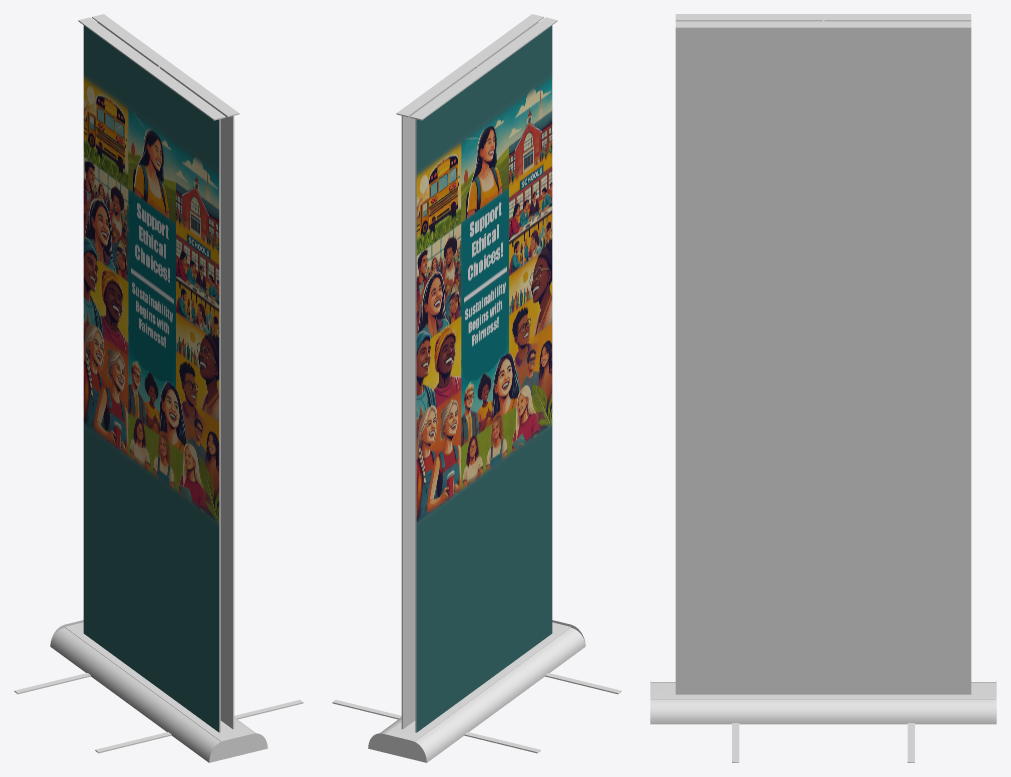
File: Banner2.fbx
The picture shows the model from 3 angles, left to right: view 1: azimuth 30°, elevation 25°; view 2: azimuth 150°, elevation 25°; view 3: azimuth 270°, elevation 25°; orthographic projection. The views are drawn at different scales.
Parts seen in each view (by area): view 1: Banner; view 2: Banner; view 3: Banner.
Boxes of the visible parts, left/top/right/bottom form: Banner: left=14, top=14, right=303, bottom=762; Banner: left=332, top=14, right=621, bottom=762; Banner: left=650, top=14, right=996, bottom=762.
Size of the model in its own units: 54.55 by 160 by 73.08.
